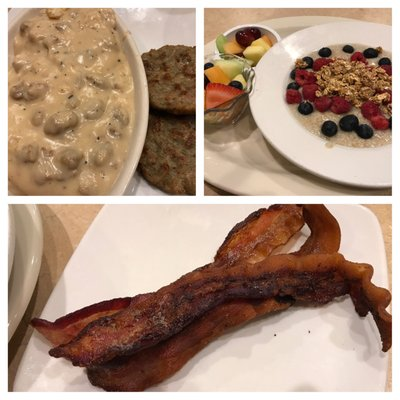sushi: (9, 9, 150, 196), (204, 54, 255, 129)
